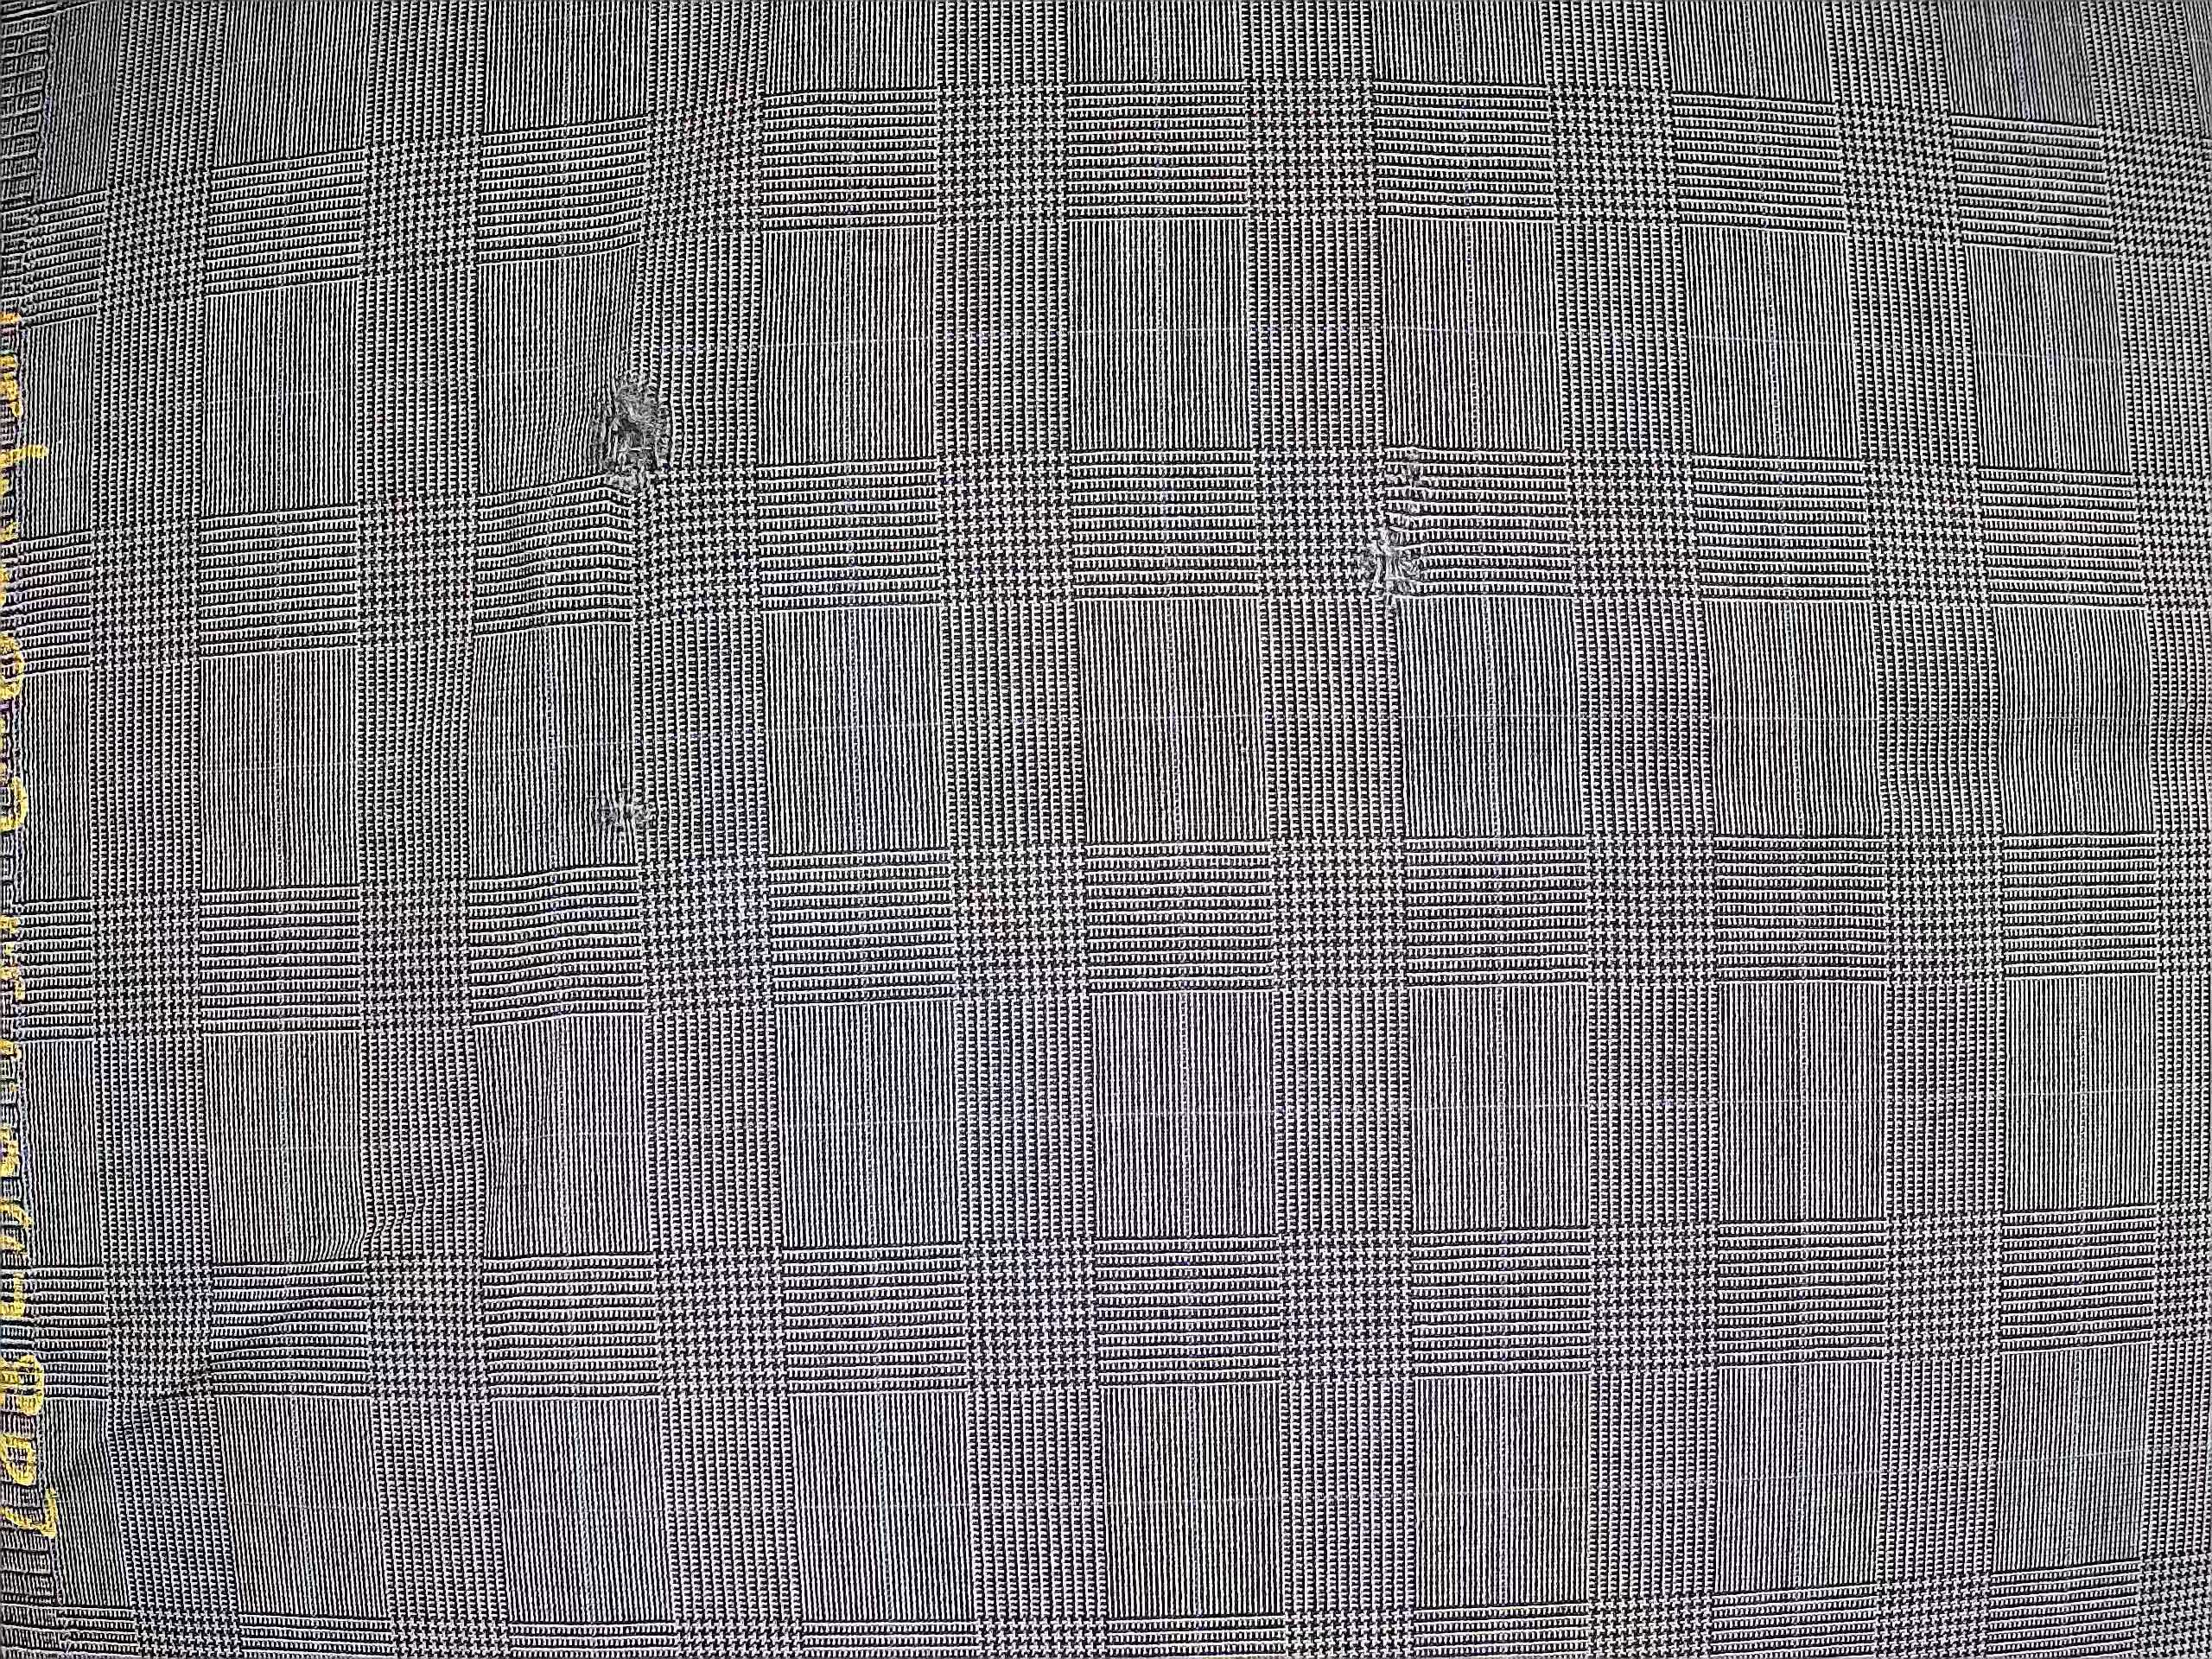brushed-hole: (550, 340, 686, 526)
